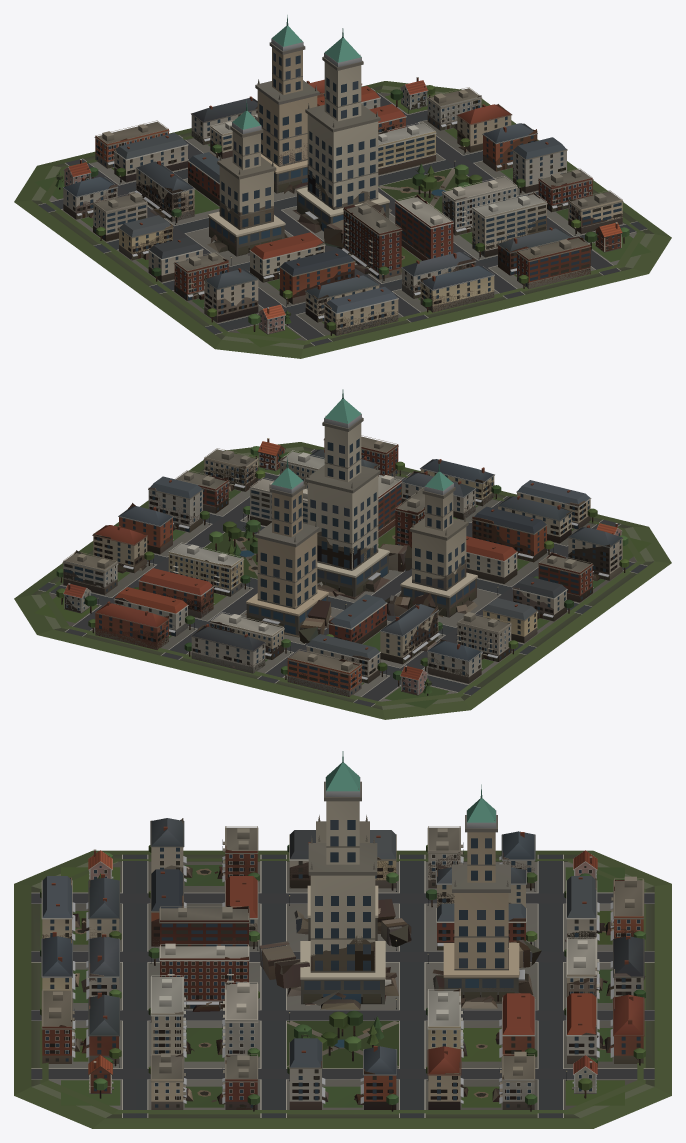
Rendered from city_ww1_city_fractured.glb.
3 renders of one model, top to bottom at view 1: azimuth 30°, elevation 25°; view 2: azimuth 150°, elevation 25°; view 3: azimuth 270°, elevation 25°, orthographic. The views are drawn at different scales.
Visible parts, largest first — view 1: city_ww1_city_DMG_mesh, city_ww1_city_RUIN_LOD1_mesh, city_ww1_city_RUIN_LOD0_mesh, city_ww1_city_RUIN_LOD2_mesh, city_ww1_city_FRAC_16_mesh, city_ww1_city_FRAC_static_mesh, city_ww1_city_FRAC_12_mesh, city_ww1_city_FRAC_05_mesh, city_ww1_city_FRAC_14_mesh, city_ww1_city_FRAC_07_mesh, city_ww1_city_FRAC_03_mesh, city_ww1_city_FRAC_24_mesh (+20 smaller); view 2: city_ww1_city_DMG_mesh, city_ww1_city_RUIN_LOD1_mesh, city_ww1_city_RUIN_LOD0_mesh, city_ww1_city_RUIN_LOD2_mesh, city_ww1_city_FRAC_static_mesh, city_ww1_city_FRAC_03_mesh, city_ww1_city_FRAC_05_mesh, city_ww1_city_FRAC_12_mesh, city_ww1_city_FRAC_07_mesh, city_ww1_city_FRAC_11_mesh, city_ww1_city_FRAC_20_mesh, city_ww1_city_FRAC_08_mesh (+19 smaller); view 3: city_ww1_city_DMG_mesh, city_ww1_city_RUIN_LOD1_mesh, city_ww1_city_RUIN_LOD2_mesh, city_ww1_city_RUIN_LOD0_mesh, city_ww1_city_FRAC_static_mesh, city_ww1_city_FRAC_16_mesh, city_ww1_city_FRAC_03_mesh, city_ww1_city_FRAC_18_mesh, city_ww1_city_FRAC_19_mesh, city_ww1_city_FRAC_21_mesh, city_ww1_city_FRAC_20_mesh, city_ww1_city_FRAC_25_mesh (+17 smaller).
Part boxes in pixels (<box>): city_ww1_city_DMG_mesh: <box>38,17,647,345</box>; city_ww1_city_RUIN_LOD1_mesh: <box>14,81,671,358</box>; city_ww1_city_RUIN_LOD0_mesh: <box>56,86,624,335</box>; city_ww1_city_RUIN_LOD2_mesh: <box>40,88,645,345</box>; city_ww1_city_FRAC_16_mesh: <box>342,195,453,278</box>; city_ww1_city_FRAC_static_mesh: <box>27,84,658,351</box>; city_ww1_city_FRAC_12_mesh: <box>249,232,355,298</box>; city_ww1_city_FRAC_05_mesh: <box>217,100,276,214</box>; city_ww1_city_FRAC_14_mesh: <box>95,120,188,183</box>; city_ww1_city_FRAC_07_mesh: <box>174,253,258,316</box>; city_ww1_city_FRAC_03_mesh: <box>255,15,319,144</box>; city_ww1_city_FRAC_24_mesh: <box>482,123,566,194</box>; city_ww1_city_DMG_mesh: <box>38,389,647,706</box>; city_ww1_city_RUIN_LOD1_mesh: <box>14,442,671,719</box>; city_ww1_city_RUIN_LOD0_mesh: <box>60,447,624,696</box>; city_ww1_city_RUIN_LOD2_mesh: <box>40,449,645,706</box>; city_ww1_city_FRAC_static_mesh: <box>27,445,658,712</box>; city_ww1_city_FRAC_03_mesh: <box>255,468,319,587</box>; city_ww1_city_FRAC_05_mesh: <box>409,461,468,575</box>; city_ww1_city_FRAC_12_mesh: <box>466,506,553,577</box>; city_ww1_city_FRAC_07_mesh: <box>533,525,629,599</box>; city_ww1_city_FRAC_11_mesh: <box>497,480,595,536</box>; city_ww1_city_FRAC_20_mesh: <box>134,543,248,603</box>; city_ww1_city_FRAC_08_mesh: <box>483,576,573,636</box>; city_ww1_city_DMG_mesh: <box>31,751,654,1117</box>; city_ww1_city_RUIN_LOD1_mesh: <box>14,819,671,1128</box>; city_ww1_city_RUIN_LOD2_mesh: <box>31,858,654,1114</box>; city_ww1_city_RUIN_LOD0_mesh: <box>42,846,645,1111</box>; city_ww1_city_FRAC_static_mesh: <box>27,854,658,1120</box>; city_ww1_city_FRAC_16_mesh: <box>148,906,259,1008</box>; city_ww1_city_FRAC_03_mesh: <box>452,798,510,943</box>; city_ww1_city_FRAC_18_mesh: <box>40,990,119,1061</box>; city_ww1_city_FRAC_19_mesh: <box>148,975,259,1057</box>; city_ww1_city_FRAC_21_mesh: <box>566,993,645,1057</box>; city_ww1_city_FRAC_20_mesh: <box>426,989,537,1057</box>; city_ww1_city_FRAC_25_mesh: <box>426,1046,537,1109</box>.
Bounding box in the file's own units: 266 × 110 × 266.
